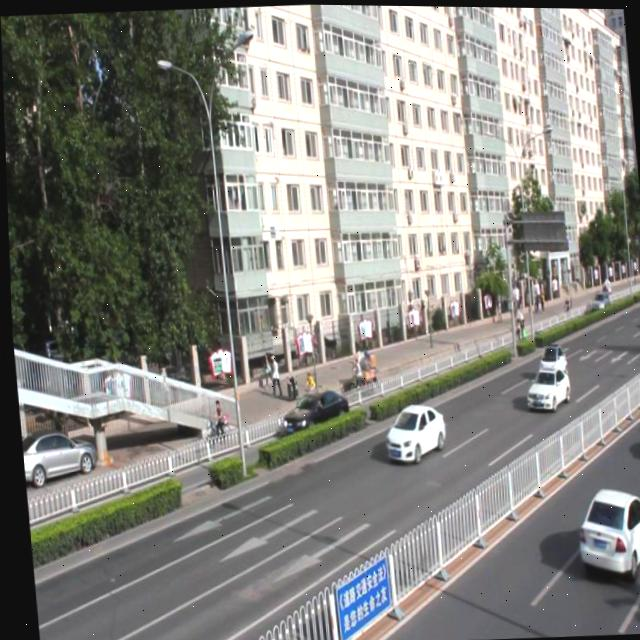car: (568, 481, 640, 575), (377, 397, 444, 464), (278, 384, 348, 434), (519, 362, 568, 413), (531, 338, 565, 376)
